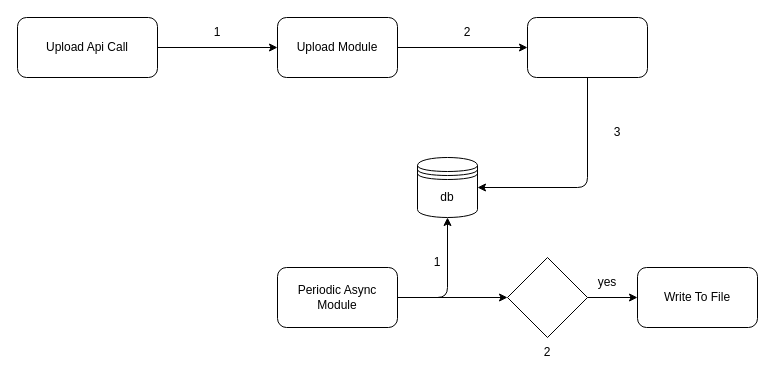
Image size: 775x385. Some labels were removed from this diagram. Each missing label, with the centre of its shape:
processing module: point 587,47
status processed: point 547,297
